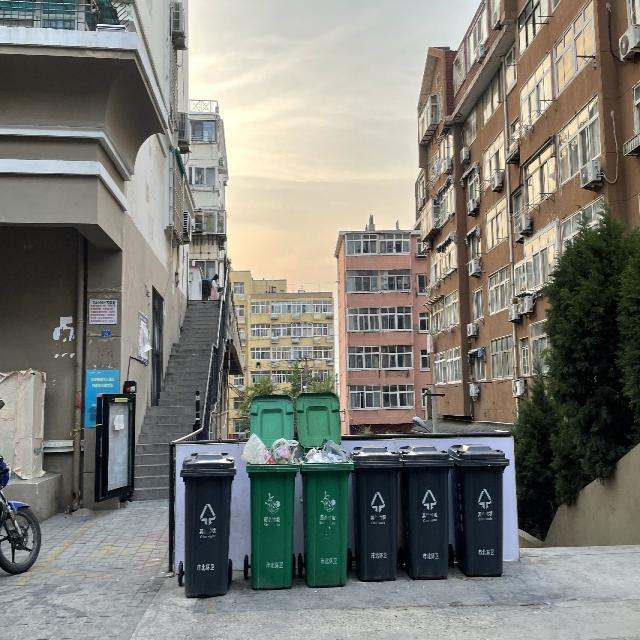garbage_bin: (180, 452, 237, 597), (447, 443, 509, 575), (399, 443, 454, 579), (349, 445, 402, 581)
overflow: (238, 432, 298, 588), (298, 438, 353, 586)
